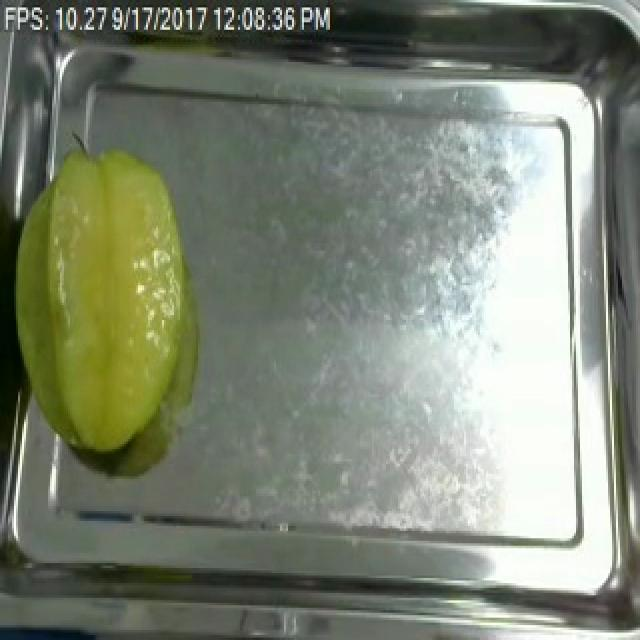fruit: (0, 132, 204, 472)
